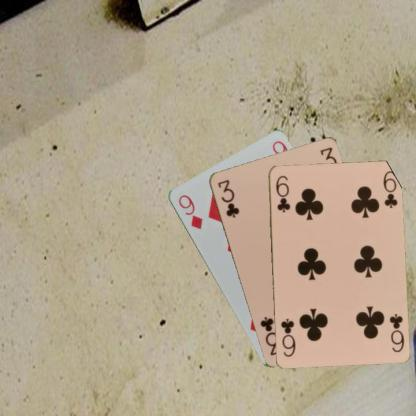3c: (215, 177, 240, 219)
6c: (386, 311, 405, 353), (273, 173, 291, 214)
9d: (175, 192, 204, 230)
